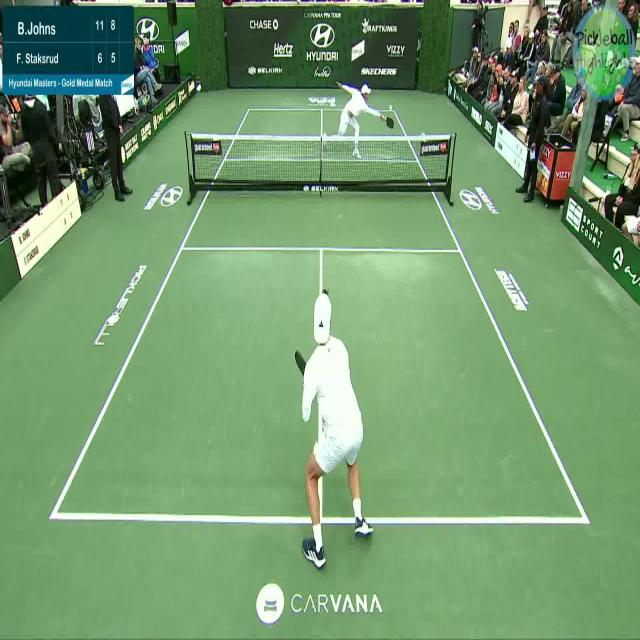ball: (388, 101, 394, 113)
